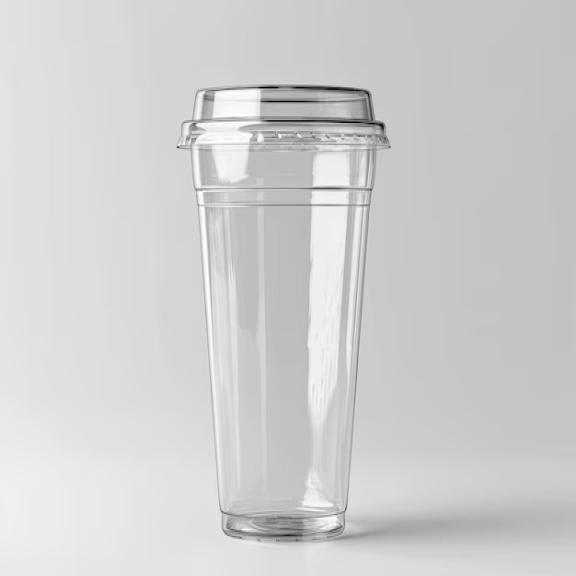Plastik: (179, 86, 388, 538)
